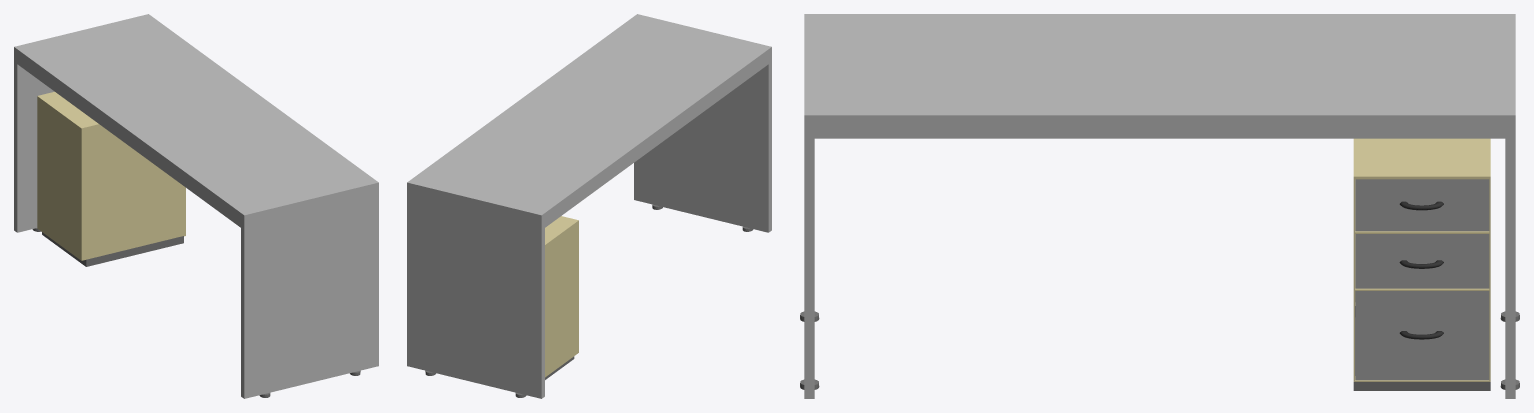
Rendered from Mesa_Retangular.fbx.
3 renders of one model, left to right at view 1: azimuth 30°, elevation 25°; view 2: azimuth 150°, elevation 25°; view 3: azimuth 270°, elevation 25°, orthographic. The views are drawn at different scales.
Visible parts, largest first — view 1: Mesa, Suporte, Base; view 2: Suporte, Mesa, Base; view 3: Mesa, G3, Base, G2, G1, Suporte.
Part boxes in pixels (box(x1,y1,x2,y2)): Mesa: box(14, 14, 378, 230); Suporte: box(14, 62, 378, 398); Base: box(37, 91, 185, 266); Suporte: box(407, 62, 771, 398); Mesa: box(407, 14, 771, 230); Base: box(545, 216, 578, 379); Mesa: box(804, 14, 1515, 138); G3: box(1355, 291, 1489, 380); Base: box(1353, 138, 1490, 390); G2: box(1355, 234, 1489, 288); G1: box(1355, 179, 1489, 231); Suporte: box(804, 138, 1515, 398).
Bounding box in the file's own units: 452 × 599 × 1355.
